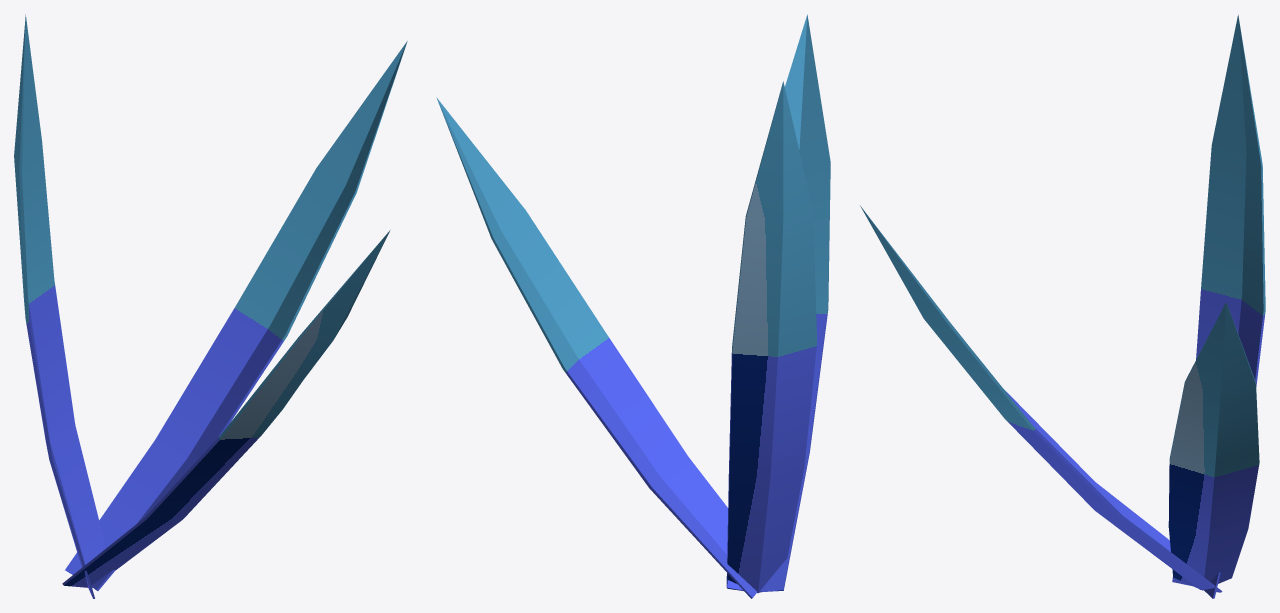
Rendered from mesh_forest_grass_02.fbx.
3 views of the same model, side by side, from view 1: azimuth 30°, elevation 25°; view 2: azimuth 150°, elevation 25°; view 3: azimuth 270°, elevation 25° (orthographic). The views are drawn at different scales.
Parts seen in each view (by area): view 1: mesh_forest_grass_02; view 2: mesh_forest_grass_02; view 3: mesh_forest_grass_02.
Part boxes in pixels (bbox=[...]): mesh_forest_grass_02: bbox=[14, 14, 407, 598]; mesh_forest_grass_02: bbox=[436, 14, 830, 598]; mesh_forest_grass_02: bbox=[860, 14, 1265, 598].
Bounding box in the file's own units: 92.47 × 128 × 84.95.
